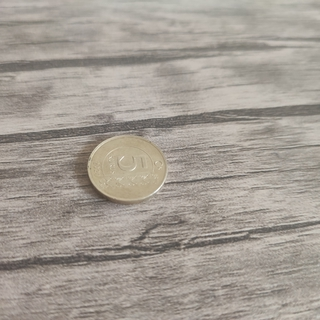5KURUS: (85, 132, 169, 204)
